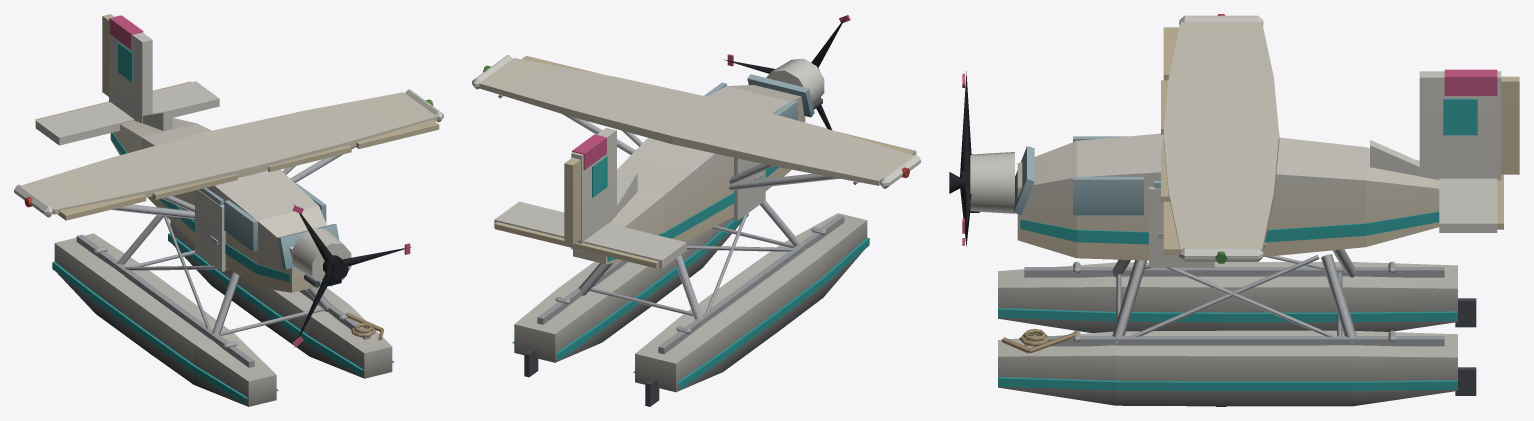
File: moored_floatplane.glb
3 views of the same model, side by side, from view 1: azimuth 30°, elevation 25°; view 2: azimuth 150°, elevation 25°; view 3: azimuth 270°, elevation 25° (orthographic). The views are drawn at different scales.
Visible parts, largest first — view 1: moored_floatplane; view 2: moored_floatplane; view 3: moored_floatplane.
Boxes of the visible parts, x1=… form: moored_floatplane: x1=14, y1=14, x2=443, y2=406; moored_floatplane: x1=472, y1=15, x2=920, y2=406; moored_floatplane: x1=949, y1=14, x2=1519, y2=406.
Size of the model in its own units: 6.71 by 3.74 by 6.73.
